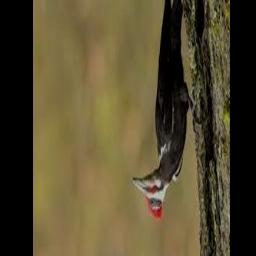Woodpecker: (133, 0, 204, 219)
